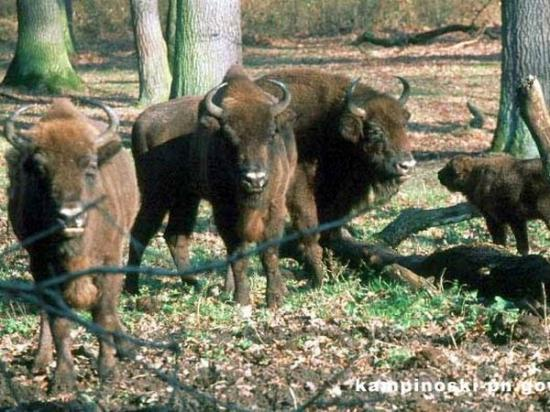zubr: (129, 71, 305, 314), (3, 87, 148, 377), (267, 49, 433, 280)
